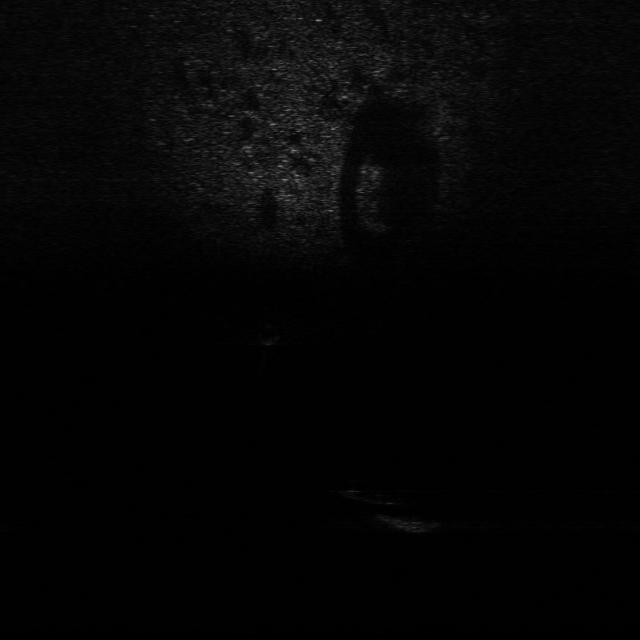ball: (256, 323, 283, 346)
metal bucket: (370, 514, 446, 534)
tyre: (333, 478, 422, 508)
